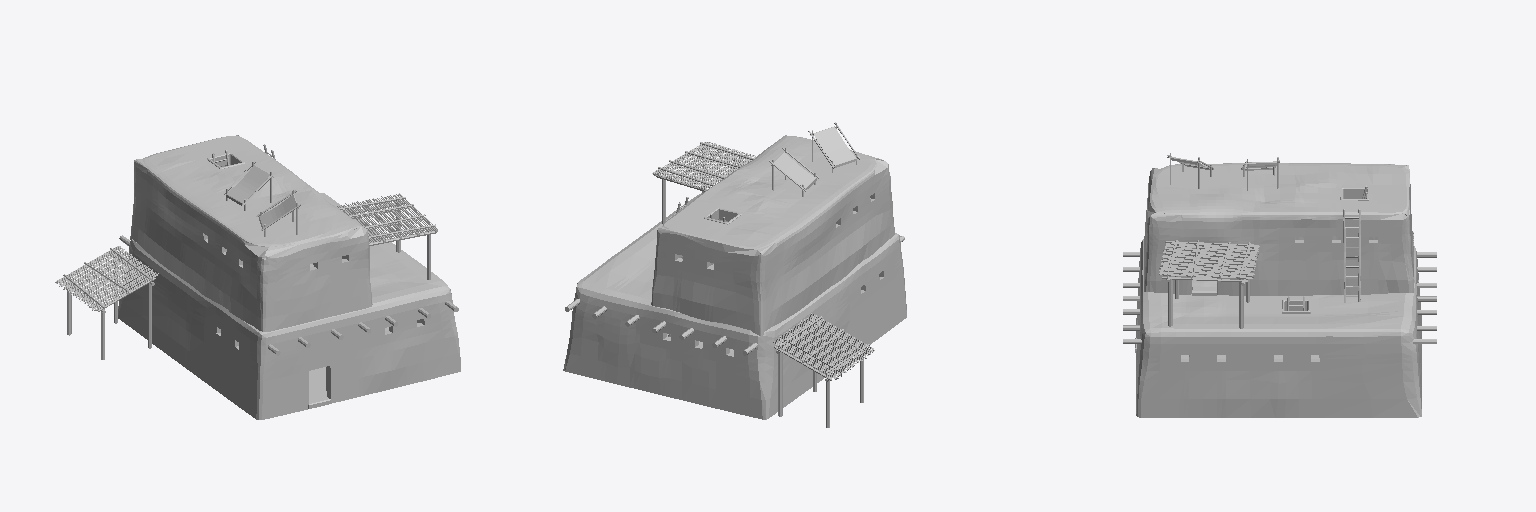
The model's file is lowpoly_turkish_house_002.obj.
3 renders of one model, left to right at view 1: azimuth 30°, elevation 25°; view 2: azimuth 150°, elevation 25°; view 3: azimuth 270°, elevation 25°, orthographic.
Visible parts, largest first — view 1: Cube.099, Cube.015, Cylinder.058, Cylinder.106, Plane.005; view 2: Cube.099, Cube.015, Cylinder.058, Cylinder.106, Plane.004, Plane.005; view 3: Cube.015, Cube.099, Cylinder.106, Cube.137.
Boxes of the visible parts, x1=… form: Cube.099: x1=130, y1=135, x2=372, y2=331; Cube.015: x1=118, y1=193, x2=460, y2=419; Cylinder.058: x1=55, y1=246, x2=158, y2=359; Cylinder.106: x1=336, y1=193, x2=437, y2=279; Plane.005: x1=226, y1=165, x2=269, y2=205; Cube.099: x1=651, y1=135, x2=894, y2=335; Cube.015: x1=563, y1=193, x2=906, y2=419; Cylinder.058: x1=773, y1=313, x2=874, y2=427; Cylinder.106: x1=652, y1=142, x2=755, y2=223; Plane.004: x1=813, y1=126, x2=856, y2=167; Plane.005: x1=774, y1=152, x2=816, y2=189; Cube.015: x1=1136, y1=239, x2=1421, y2=417; Cube.099: x1=1144, y1=162, x2=1413, y2=295; Cylinder.106: x1=1159, y1=240, x2=1259, y2=328; Cube.137: x1=1343, y1=209, x2=1360, y2=302.
Bounding box in the file's own units: 7.59 × 5.16 × 7.64.